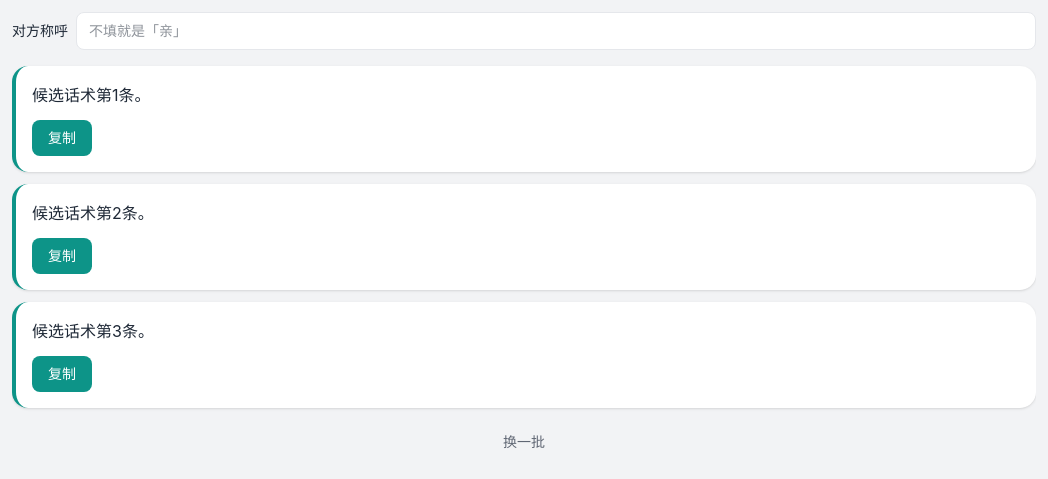
Test: PhraseList › 超过 3 条时「换一批」换内容并再报 generate
Expected: the text "候选话术第1条。" is shown, [32, 85, 150, 105]
Click the button "换一批": [524, 442] box [12, 424, 1036, 460]
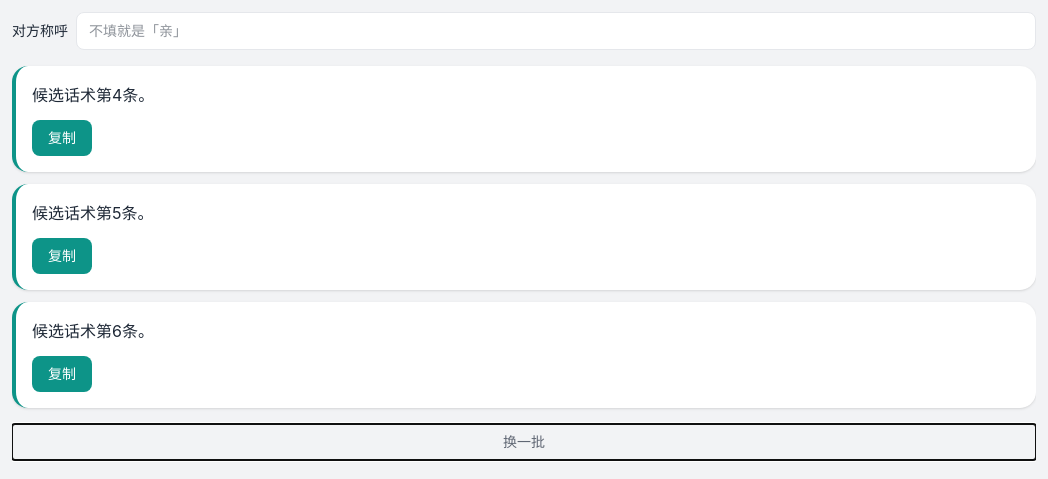
Expected: the text "候选话术第4条。" is shown, [32, 85, 154, 105]
Expected: the text "候选话术第1条。" is gone
